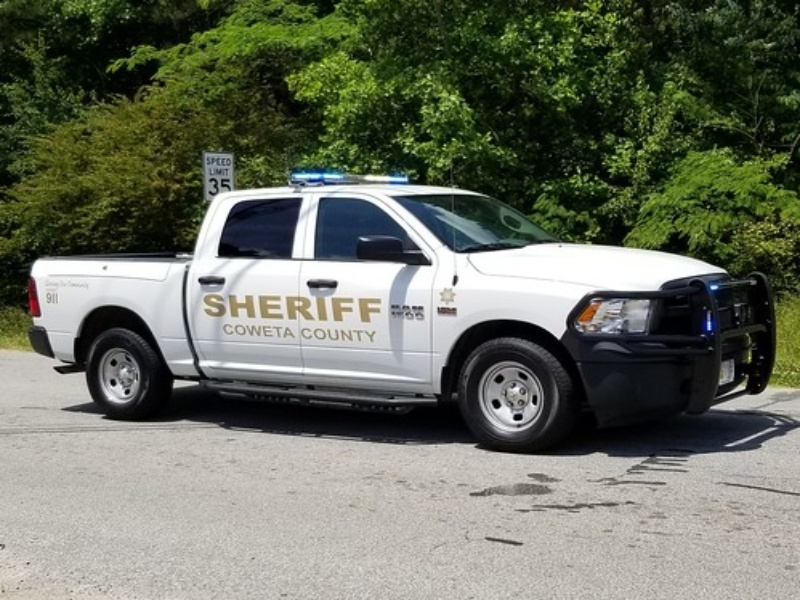policecar: (26, 167, 793, 449)
